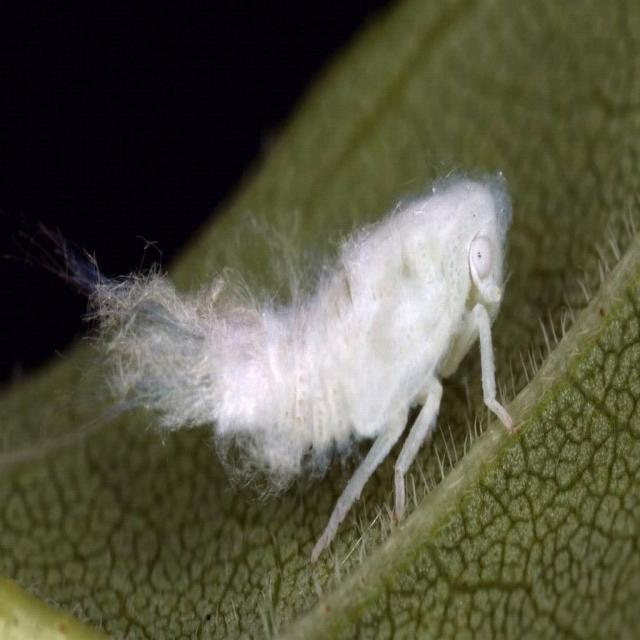wereng pada daun padi: (49, 164, 519, 566)
